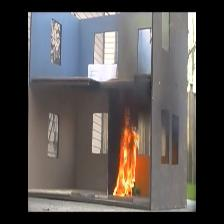fire: (119, 121, 140, 194)
smoke: (115, 83, 150, 106)
